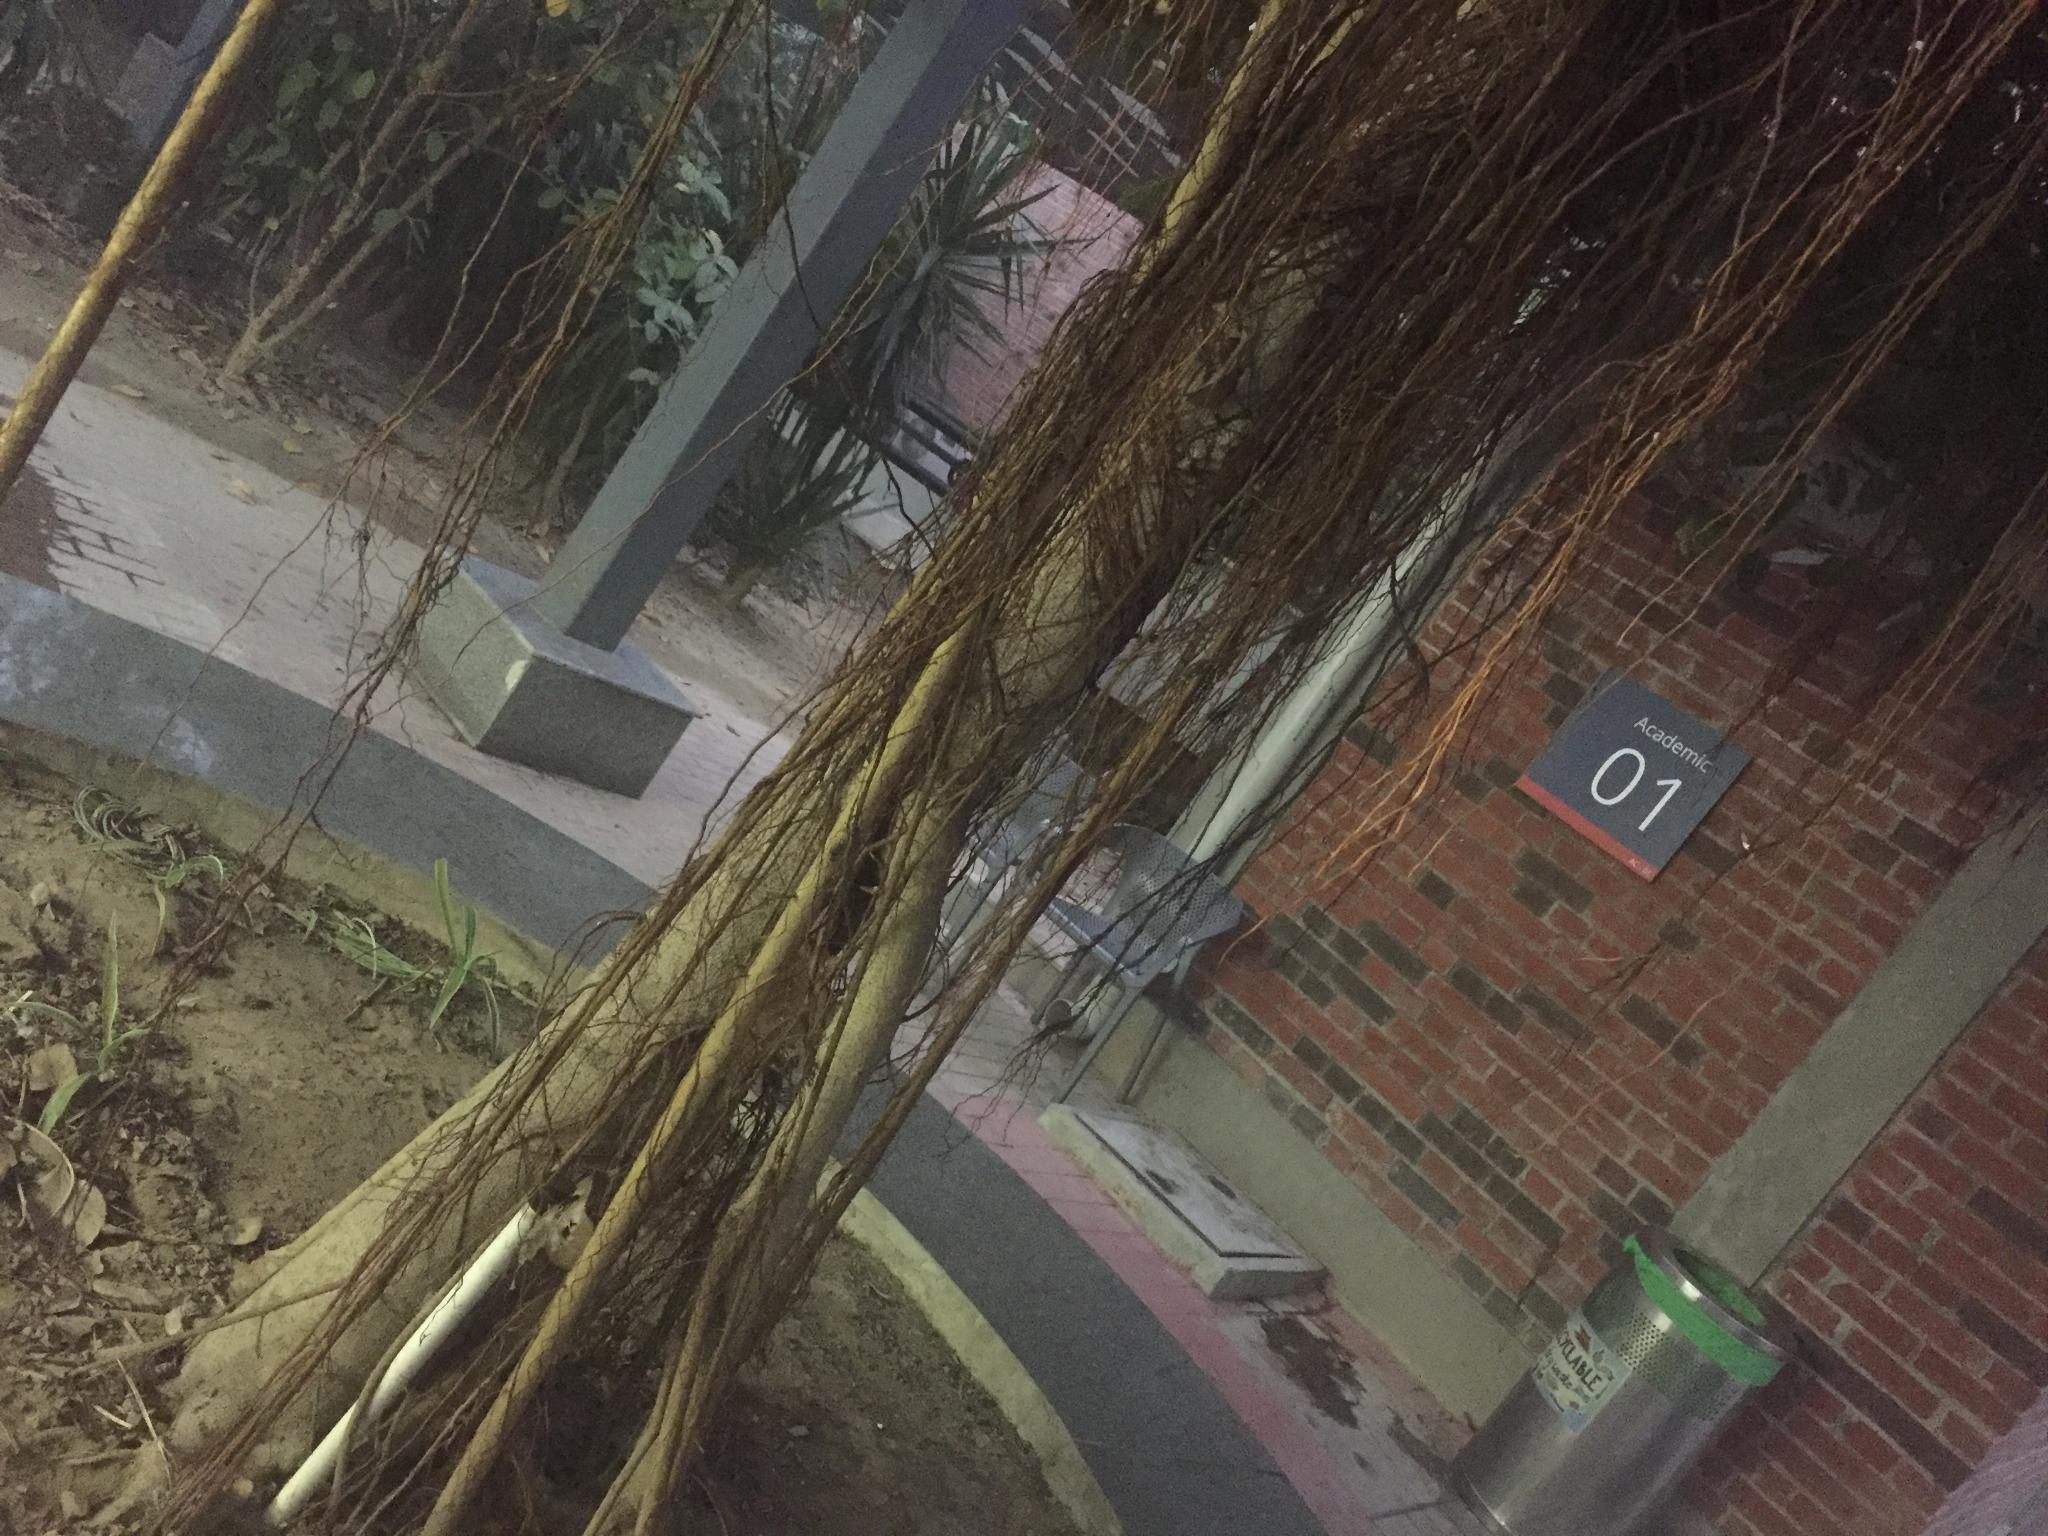chair: (964, 815, 1261, 1092)
